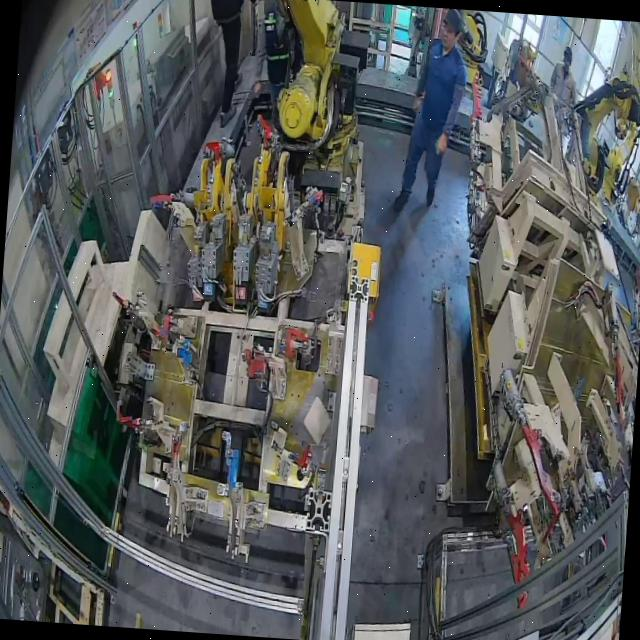Person: (393, 6, 471, 216), (199, 0, 258, 130), (545, 45, 581, 158)
